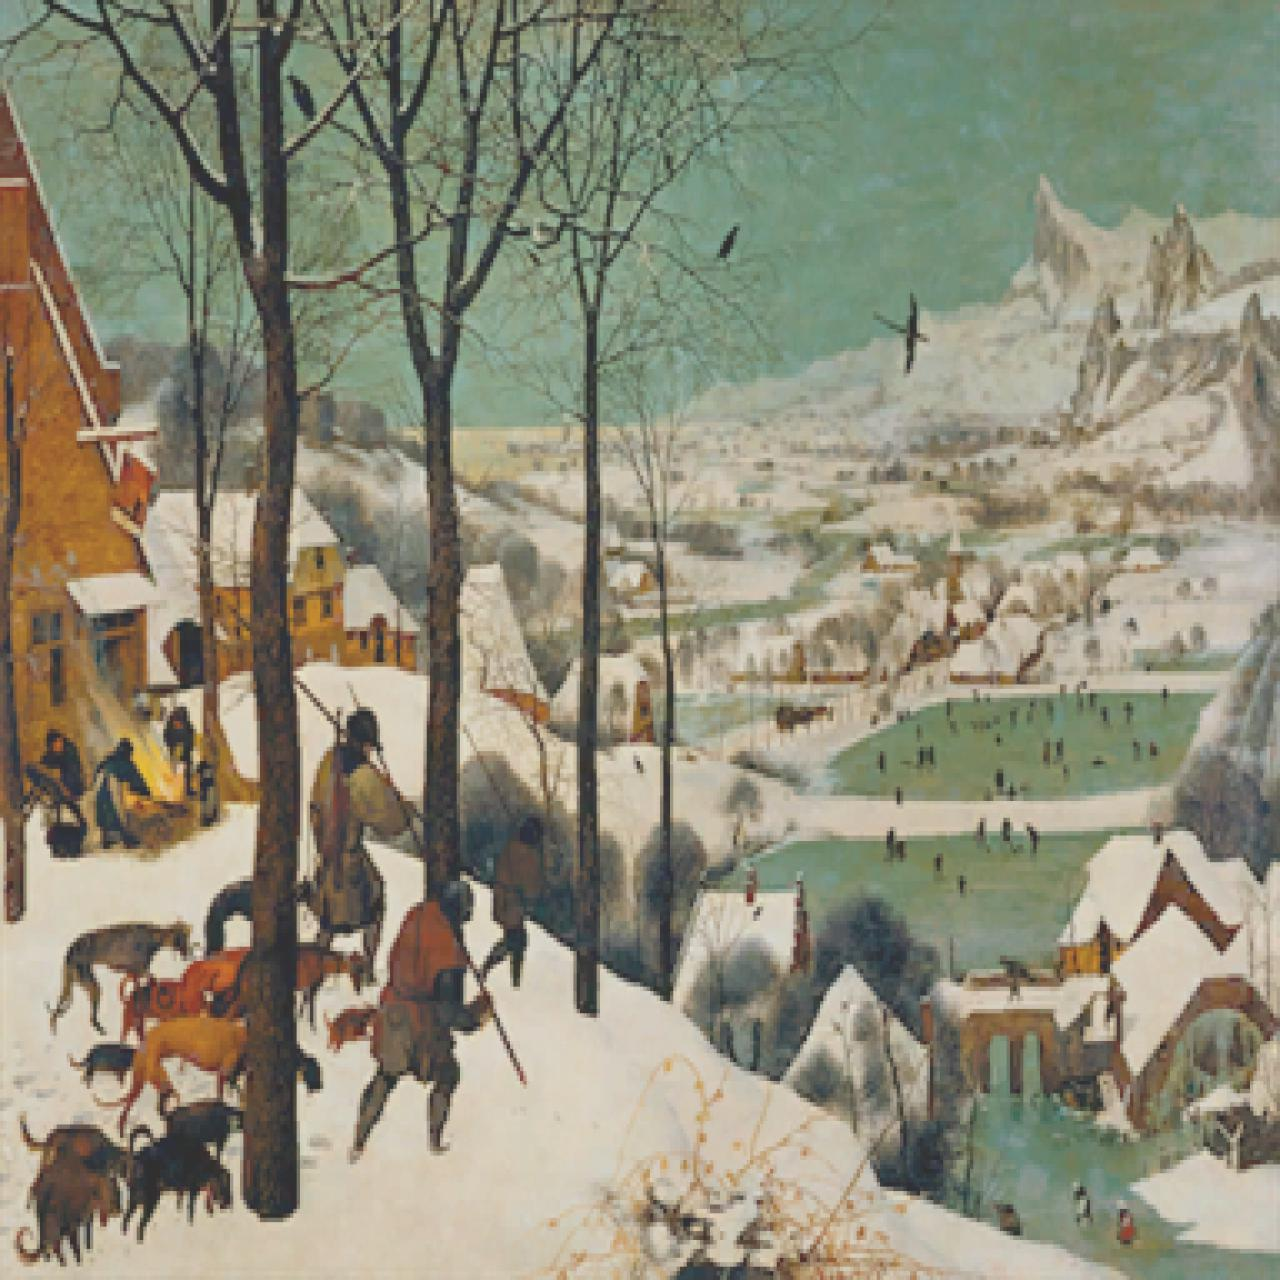HunterSnow: (1, 1, 1278, 1276)
